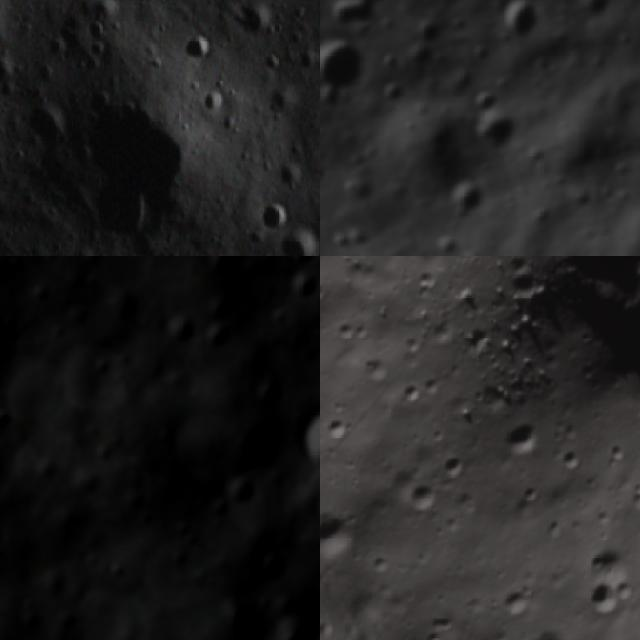crater: (535, 256, 640, 328), (320, 25, 384, 109), (321, 0, 409, 40), (282, 392, 320, 484), (320, 502, 367, 574), (470, 99, 530, 153), (439, 173, 495, 229), (398, 474, 451, 525), (501, 411, 552, 462), (495, 0, 550, 47), (496, 578, 544, 627), (581, 580, 625, 622), (519, 614, 590, 640), (215, 596, 258, 638), (422, 600, 465, 640), (398, 374, 440, 414), (267, 607, 316, 640), (364, 543, 404, 583), (358, 350, 398, 390), (412, 10, 451, 50), (438, 449, 478, 488), (377, 72, 417, 109), (320, 414, 357, 451), (253, 199, 295, 230), (511, 476, 546, 512), (554, 443, 588, 477), (609, 573, 640, 606), (285, 231, 320, 256), (320, 438, 336, 489), (188, 27, 216, 56), (203, 87, 228, 115), (277, 159, 301, 187), (265, 52, 285, 73), (90, 22, 110, 40), (418, 628, 446, 640)
